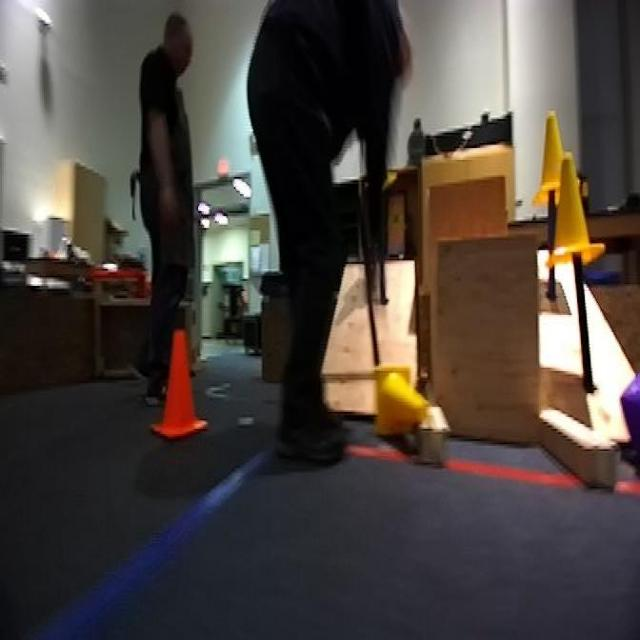frc_cone: (551, 146, 596, 271), (535, 111, 577, 209), (372, 370, 417, 432)
frc_cube: (619, 358, 640, 483)
